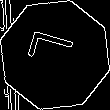L_E: (26, 33, 84, 77)
